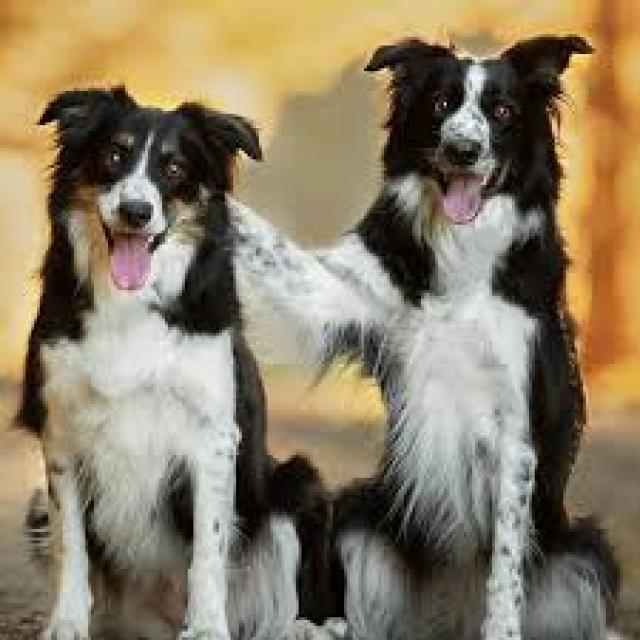BORDER_COLLIE: (228, 17, 612, 640), (3, 82, 327, 640)
